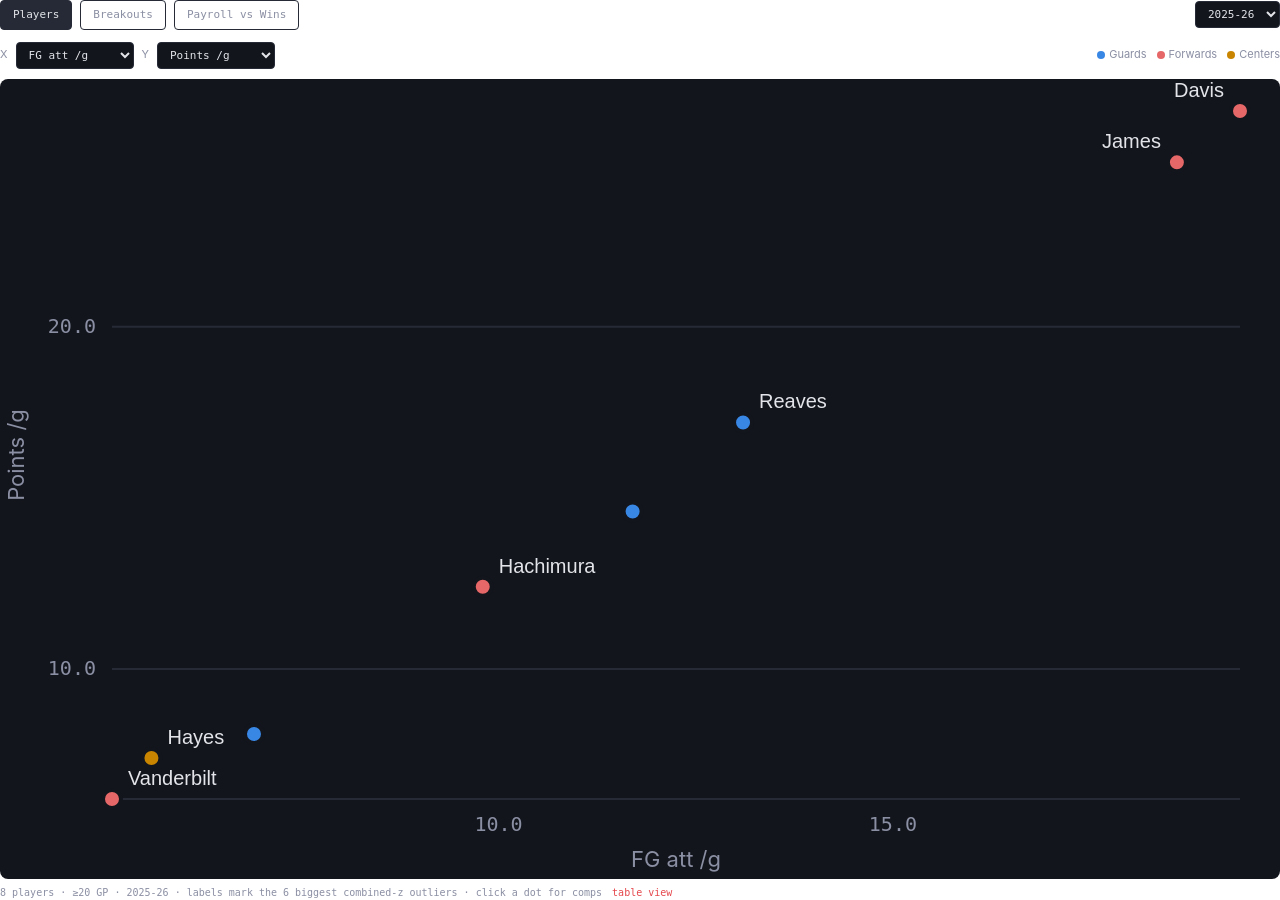
Test: LeagueLens — breakout view › explains itself when no player appears in both seasons
Click the button "Breakouts" at [123, 15], box [80,0,166,30]
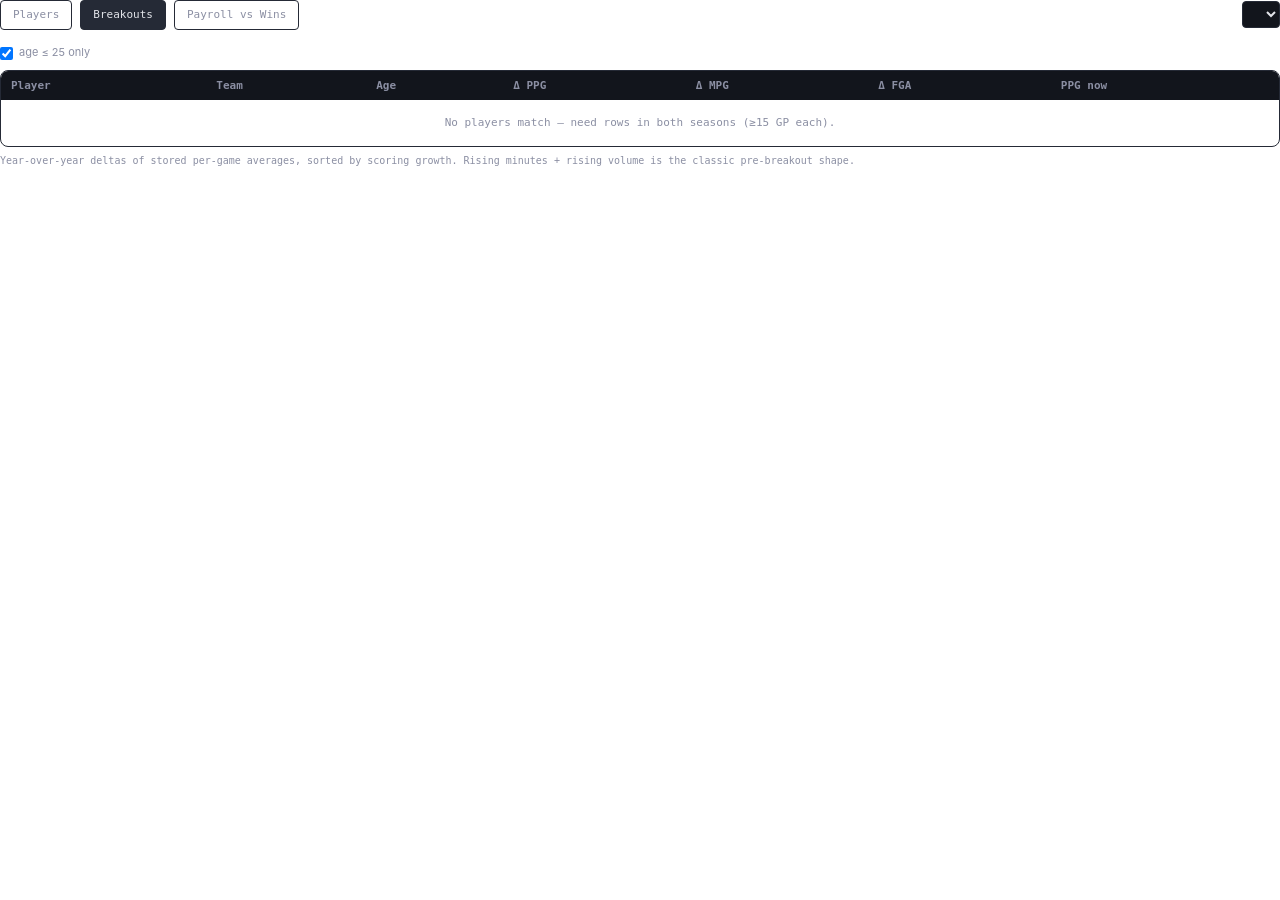
Expected: the text "No players match — need rows in both seasons (≥15 GP each)." is shown, [1,100,1279,146]
